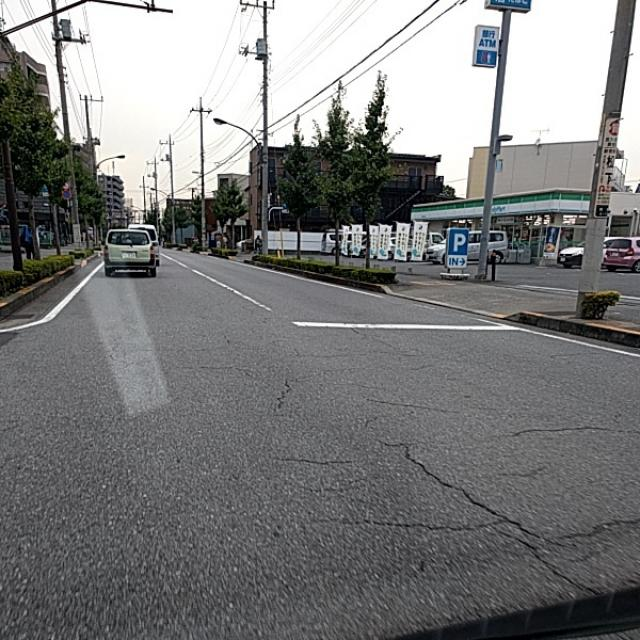pothole: (278, 402, 548, 584)
